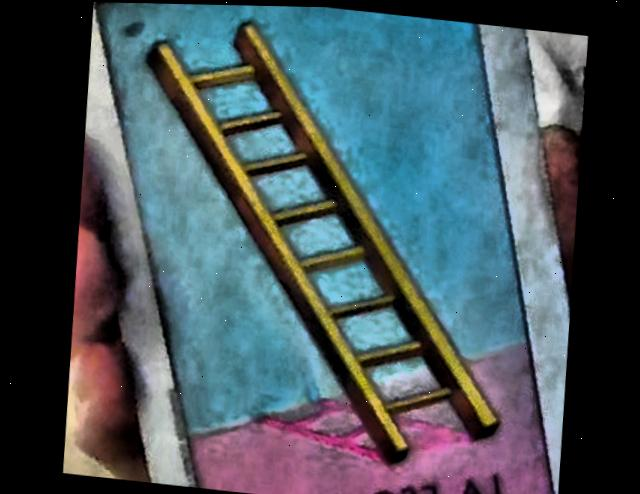La Escalera: (94, 2, 552, 494)
